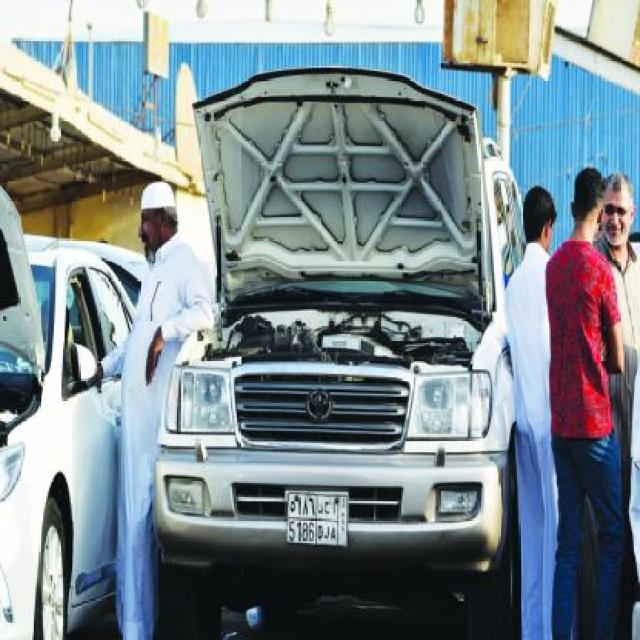license_plate: (286, 490, 352, 550)
